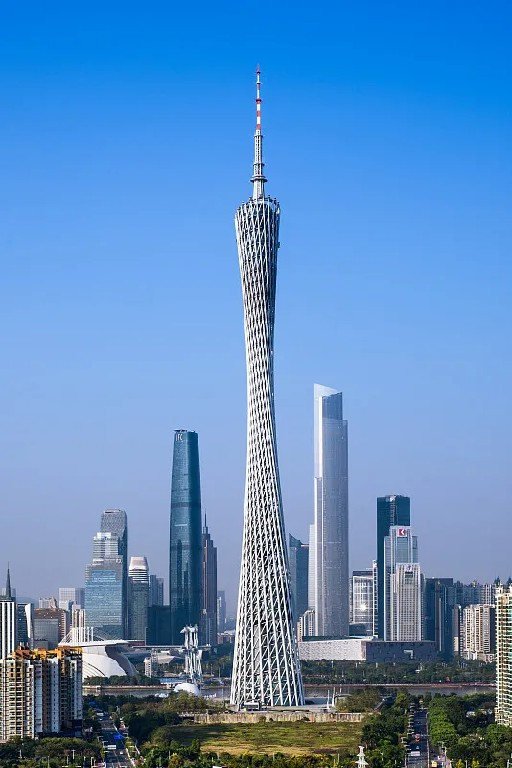Canton: (226, 62, 308, 710)
